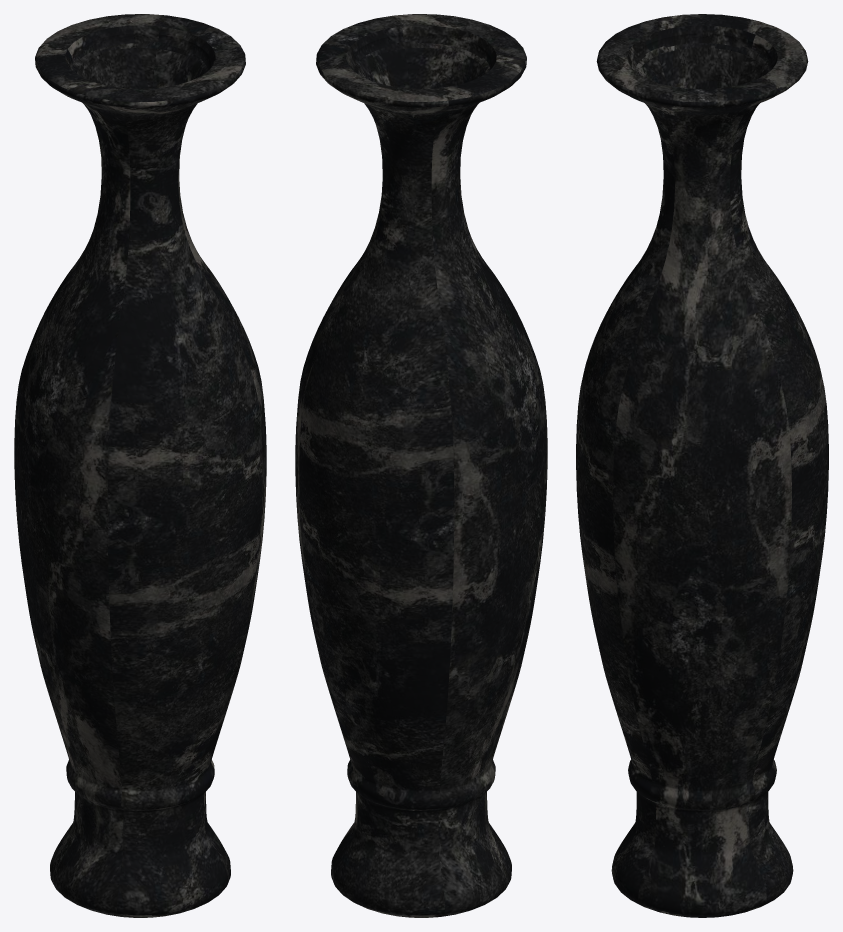
File: wase.glb
3 renders of one model, left to right at view 1: azimuth 30°, elevation 25°; view 2: azimuth 150°, elevation 25°; view 3: azimuth 270°, elevation 25°, orthographic.
Parts seen in each view (by area): view 1: Lathe; view 2: Lathe; view 3: Lathe.
Boxes of the visible parts, box(x1,y1,x2,y2) form: Lathe: box(14, 14, 266, 917); Lathe: box(295, 14, 547, 917); Lathe: box(576, 14, 828, 917).
Bounding box in the file's own units: 0.0335 × 0.1226 × 0.0335.
Materials: 1 (1 with a texture image).
